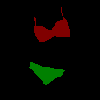mutande: (29, 61, 65, 85)
reggiseno: (34, 7, 70, 42)
